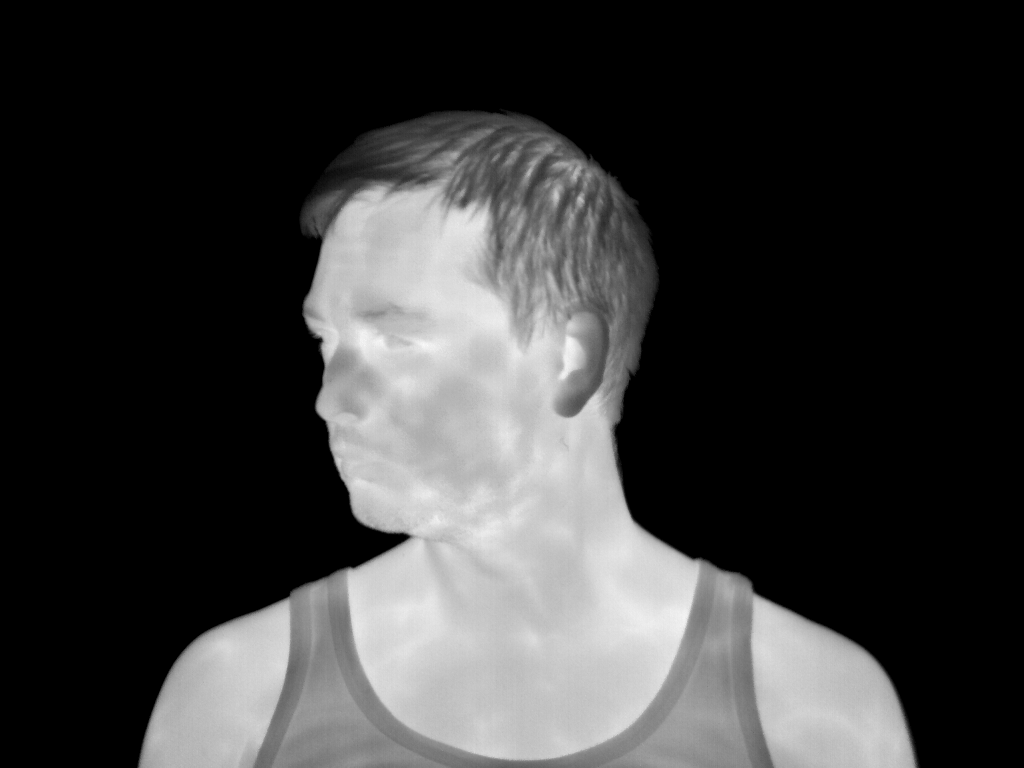face: (299, 205, 566, 533)
